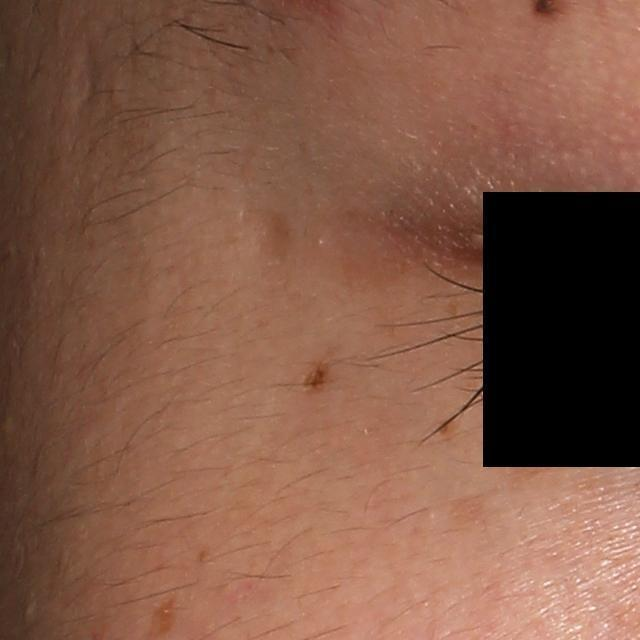atrophic_scar: (68, 37, 105, 122)
melasma: (245, 209, 297, 268), (509, 441, 562, 481), (145, 593, 179, 637), (450, 493, 489, 528)
nevus: (293, 365, 331, 394)
